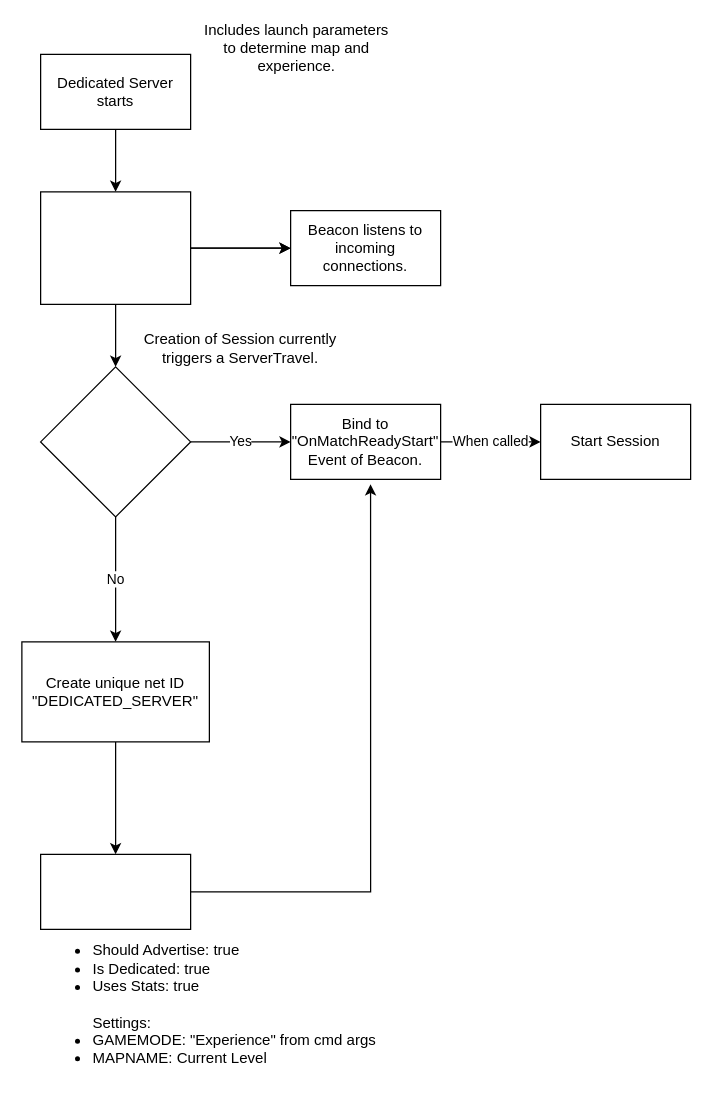
The diagram is 713 pixels wide and 1104 high, and some of its shapes have lost their labels. Here are the shapes that lost their labels. From the top down, the centre of each, then its label:
At [115,247]: "Server loads map with Matchmaking Beacon and BPC that handles session creation.".
At [115,441]: "Was a session already created?".
At [115,891]: "Create Session".
